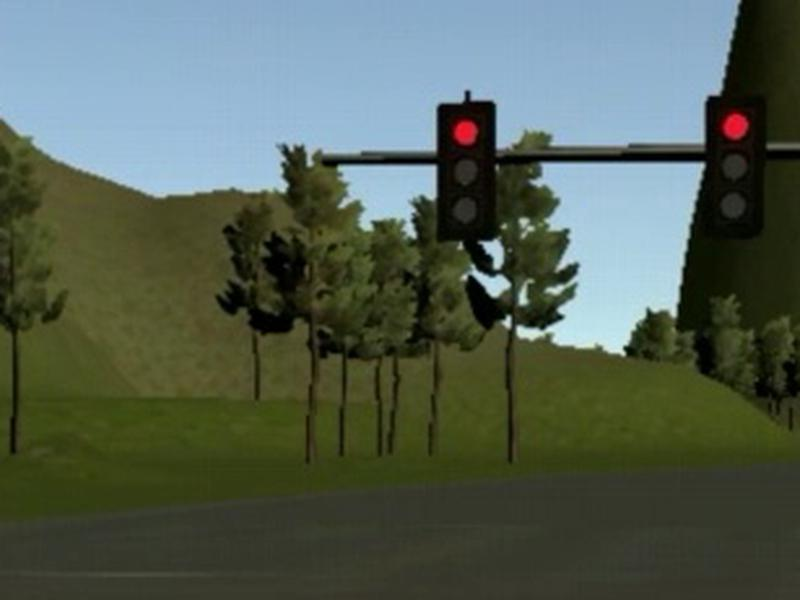Red: (706, 94, 762, 238), (438, 97, 494, 240)
